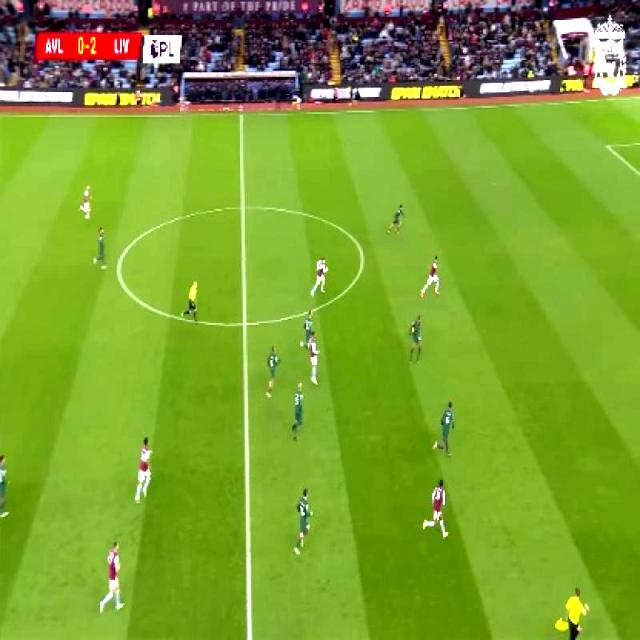bigarea_top_inner: (598, 135, 616, 157)
halfcircle_bottom: (232, 309, 254, 337)
halfcircle_top: (231, 194, 254, 220)
midline_top_intersection: (234, 102, 249, 123)
